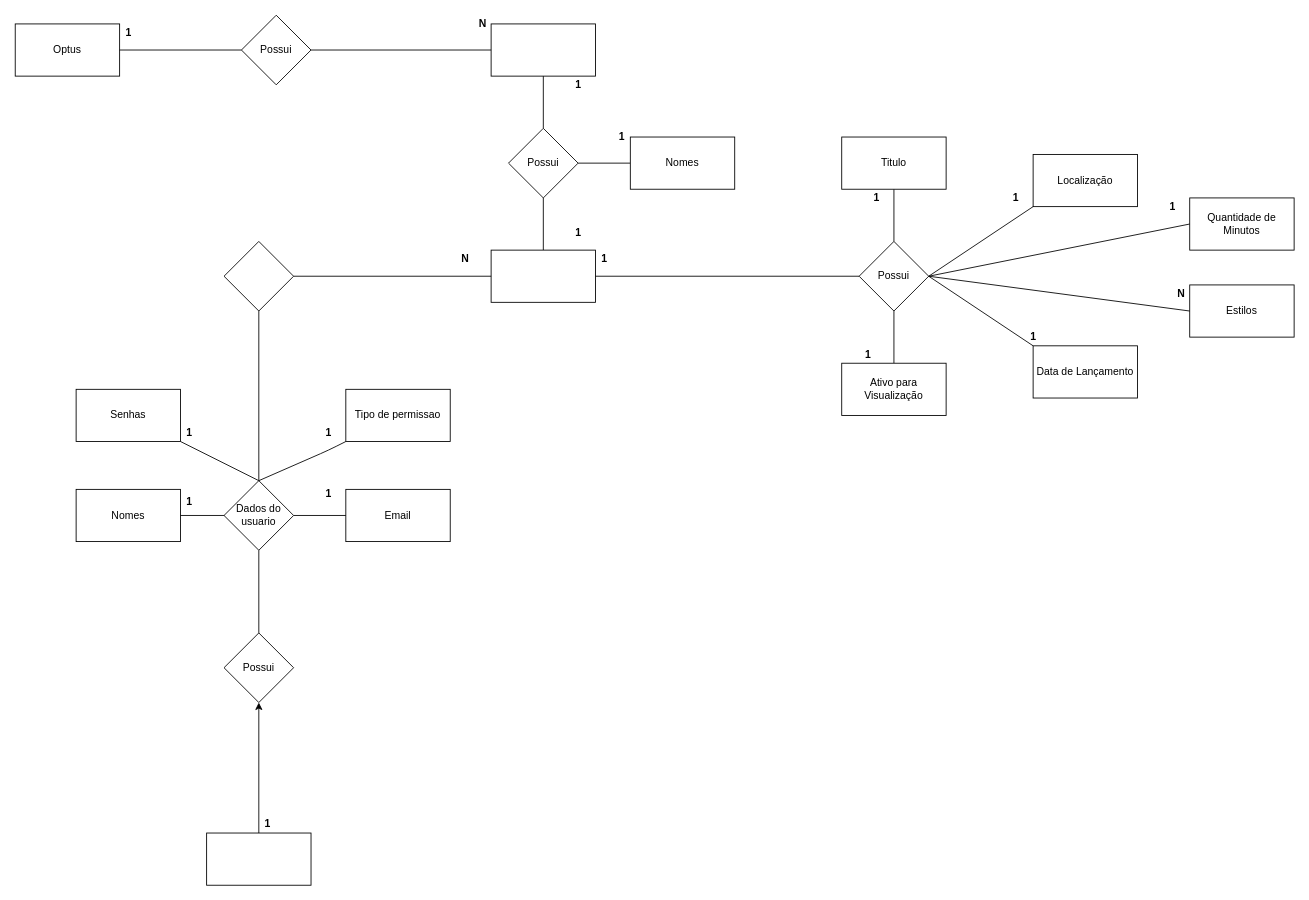
The diagram is 1309 pixels wide and 900 high, and some of its shapes have lost their labels. Each missing label, with the box of its shape:
Acesso a Plataforma: (223, 241, 294, 311)
Albuns: (490, 249, 596, 302)
Artistas: (490, 23, 596, 76)
Usuarios: (206, 832, 311, 885)
